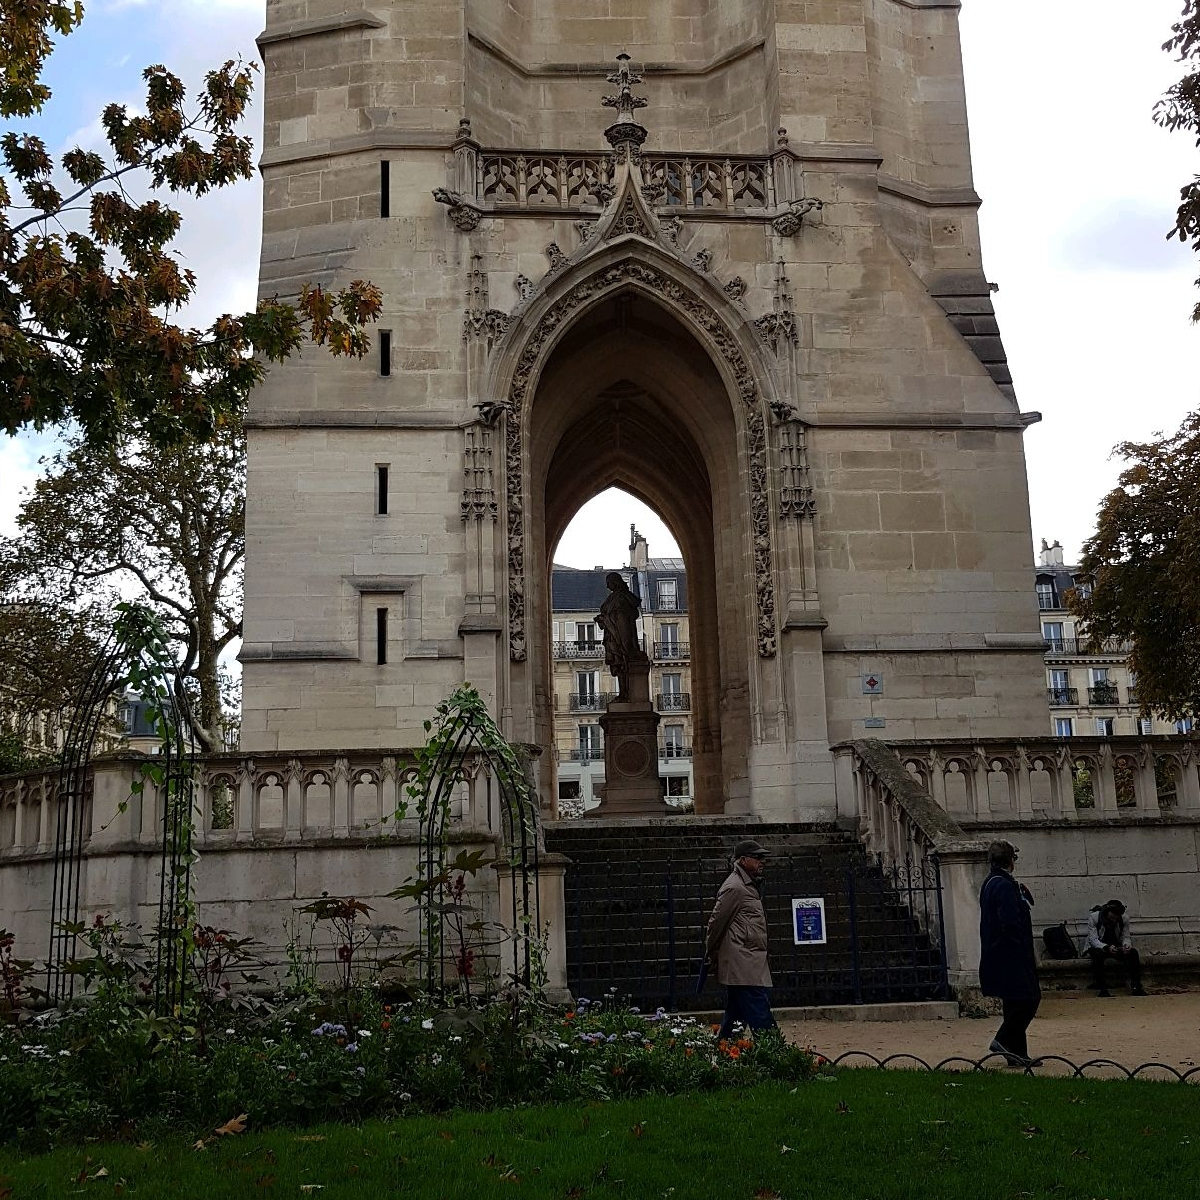arco-apuntado: (495, 251, 755, 457)
arco-conopial: (538, 166, 726, 285)
